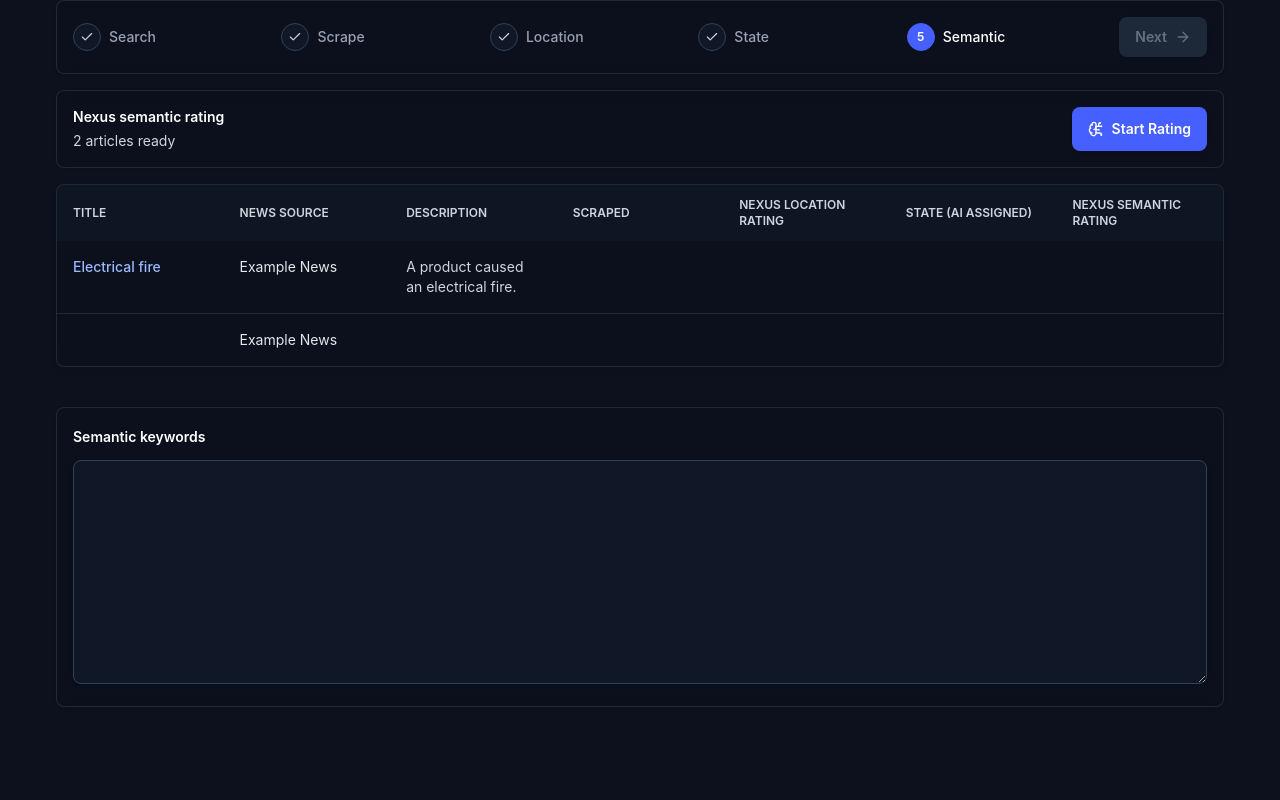
SemanticBar › warns when the keyword list is empty
This screenshot has width=1280, height=800.
Click the button "Start Rating" at [1139, 129], box [1072,107,1207,151]
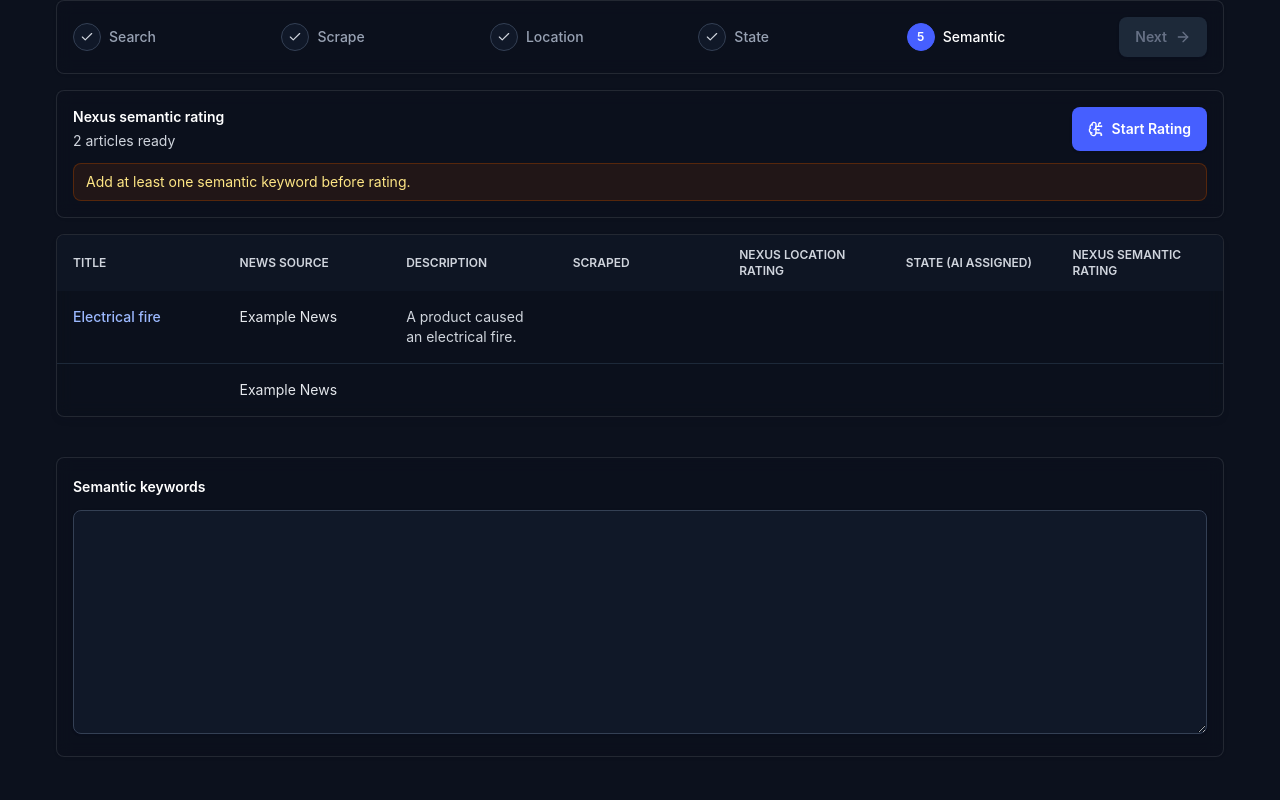
Expected: the message reads "Add at least one semantic keyword before rating.", [86,173,410,190]
